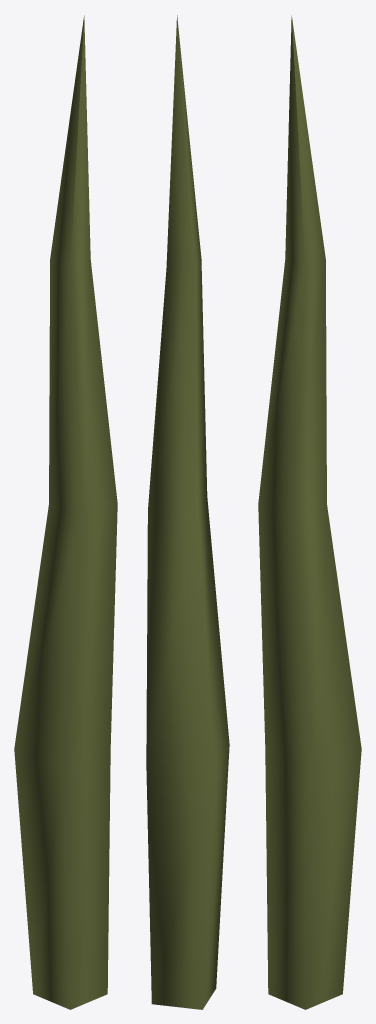
File: erva9.fbx
3 views of the same model, side by side, from view 1: azimuth 90°, elevation 25°; view 2: azimuth 210°, elevation 25°; view 3: azimuth 270°, elevation 25° (orthographic).
Visible parts, largest first — view 1: erva9; view 2: erva9; view 3: erva9.
Part boxes in pixels (x1=…): erva9: x1=14, y1=15, x2=117, y2=1009; erva9: x1=146, y1=15, x2=229, y2=1009; erva9: x1=258, y1=15, x2=361, y2=1009.
Bounding box in the file's own units: 0.1452 × 1.63 × 0.1558.
